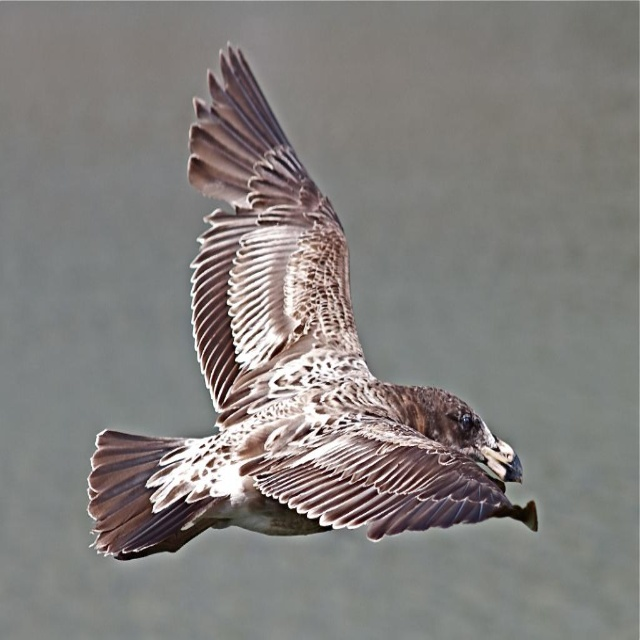Eagle: (86, 40, 538, 561)
